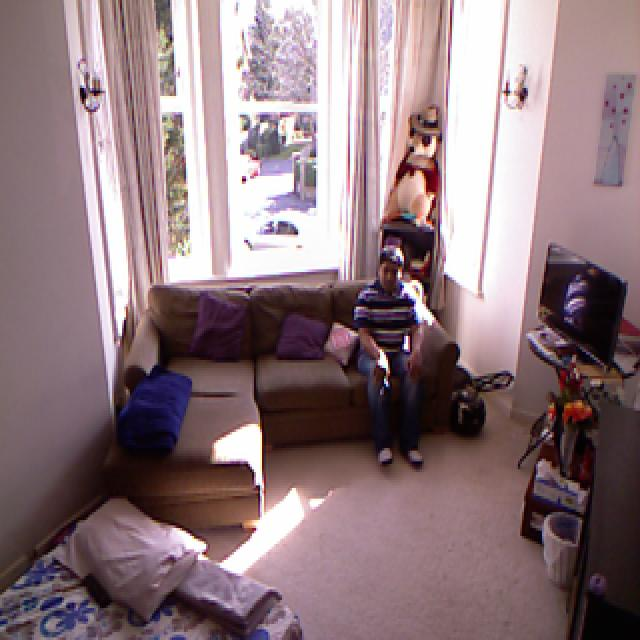sitting: (355, 249, 425, 476)
